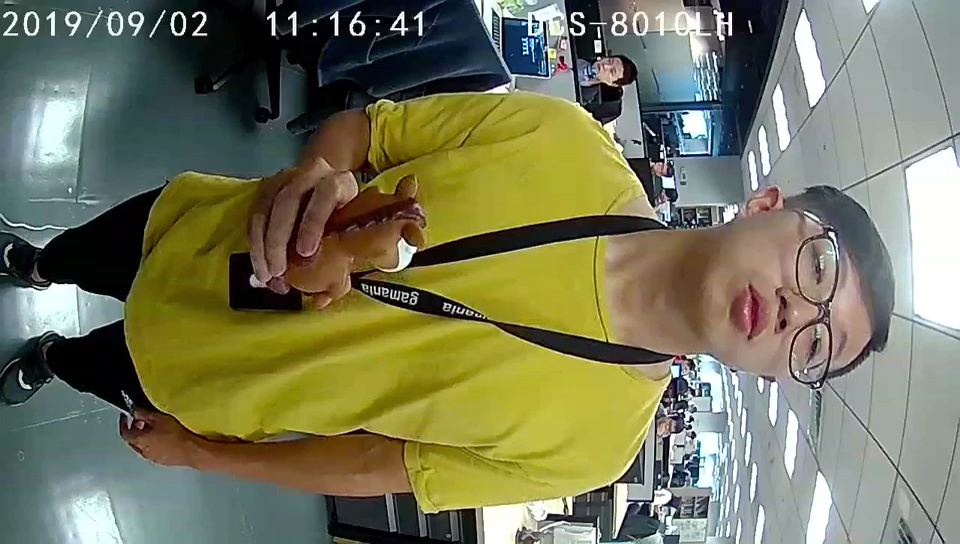horse: (334, 173, 426, 296)
